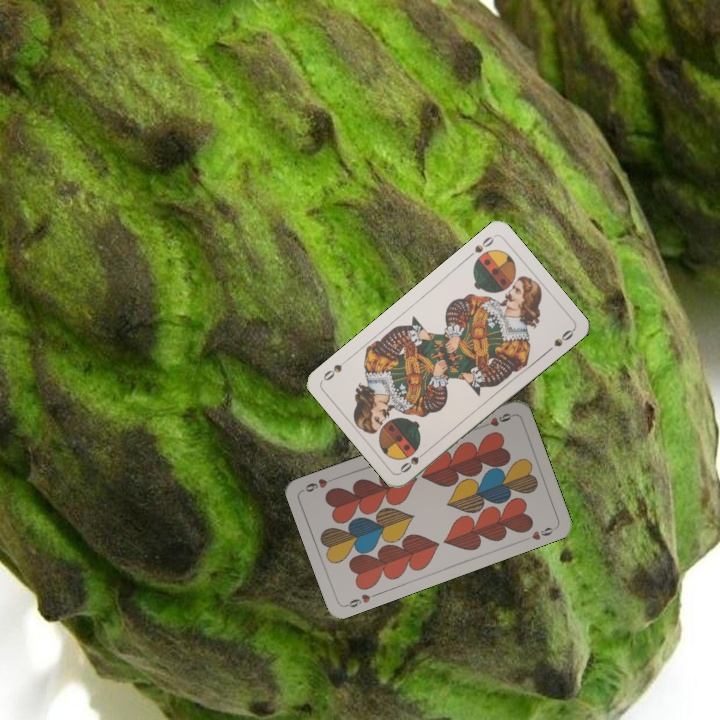H9: (477, 409, 516, 430), (342, 590, 373, 610)
SO: (396, 446, 430, 476), (463, 232, 496, 261)
